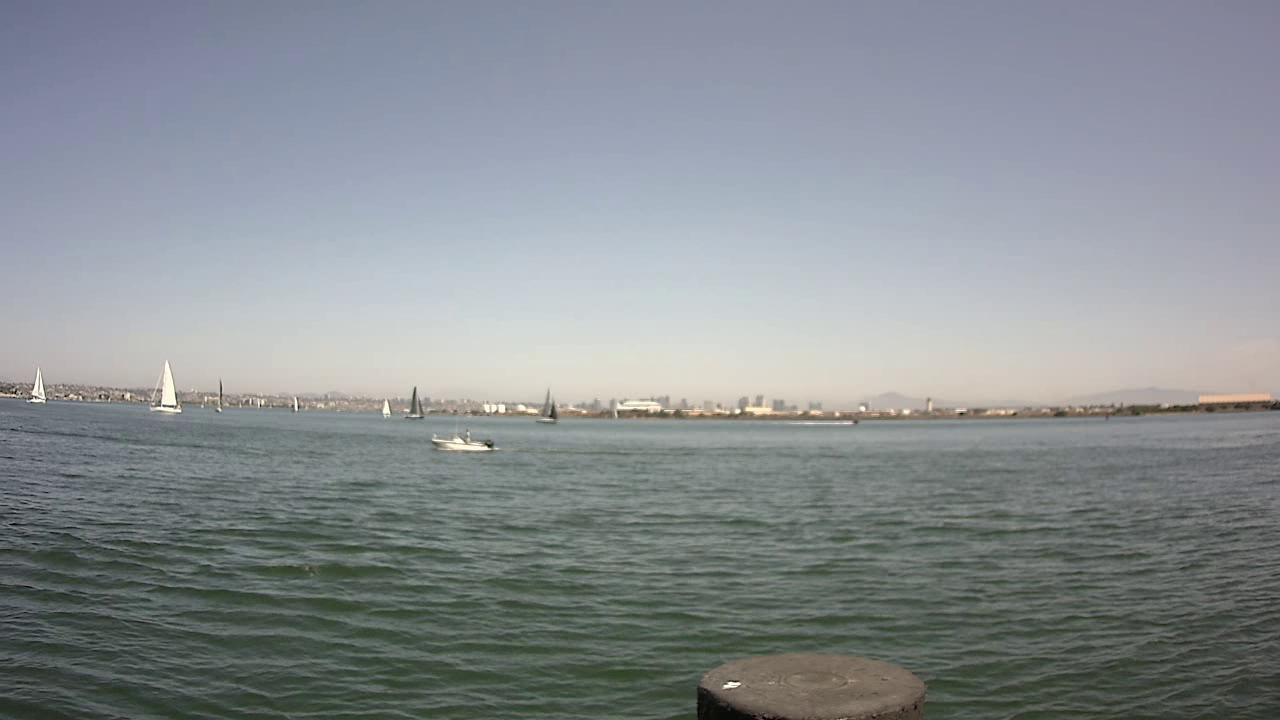target: (427, 422, 504, 457)
